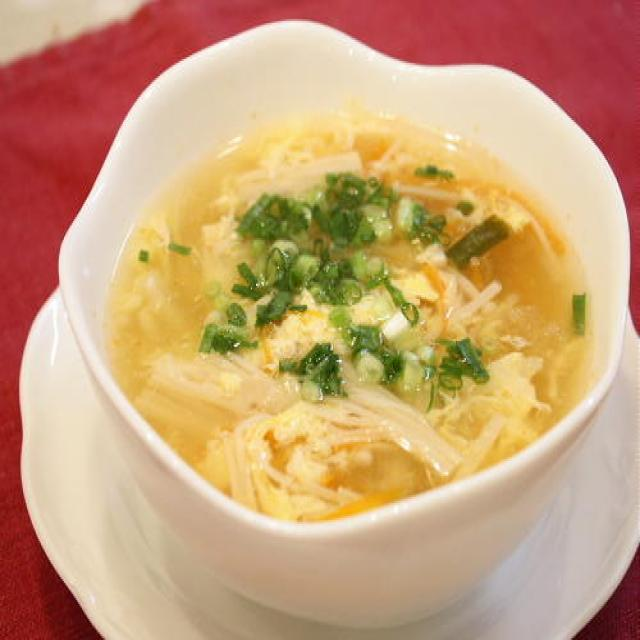汤锅炖物: (10, 17, 640, 636)
